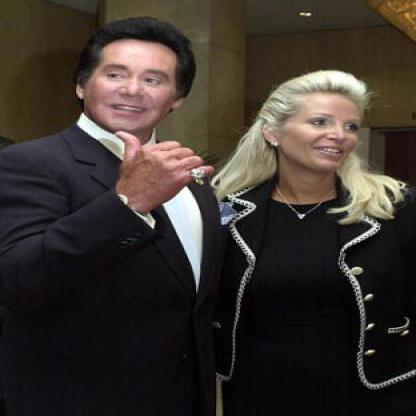face: (86, 29, 184, 133), (279, 80, 367, 174)
